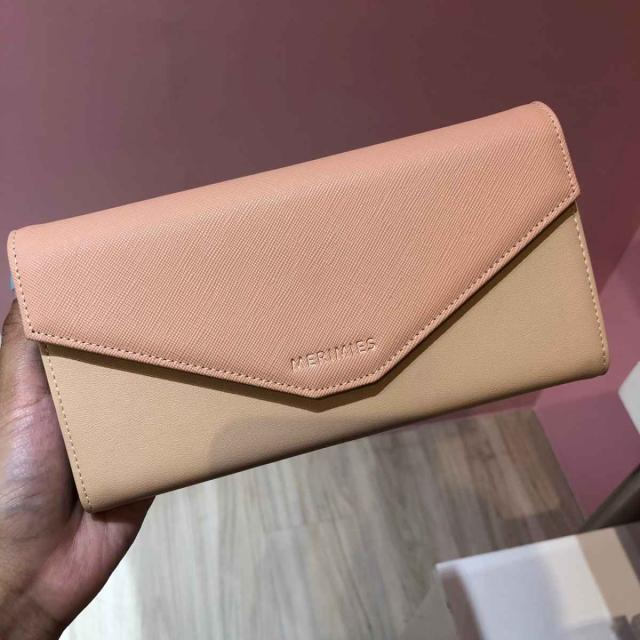Handbag: (0, 97, 612, 518)
